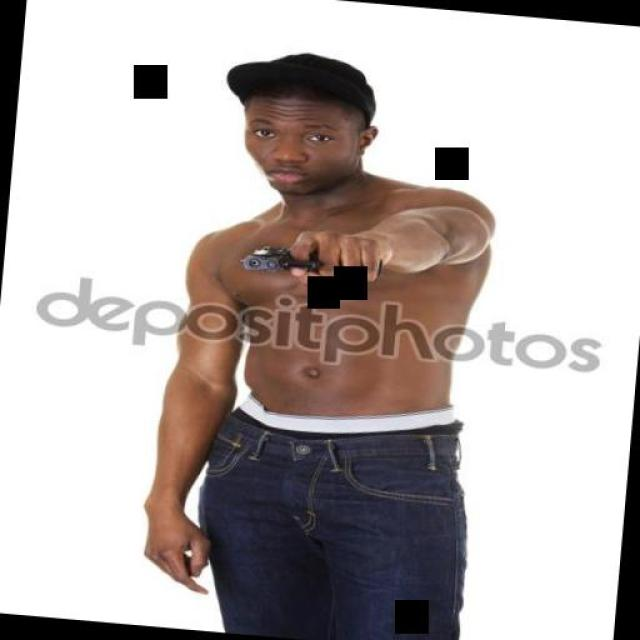gun: (244, 238, 375, 290)
